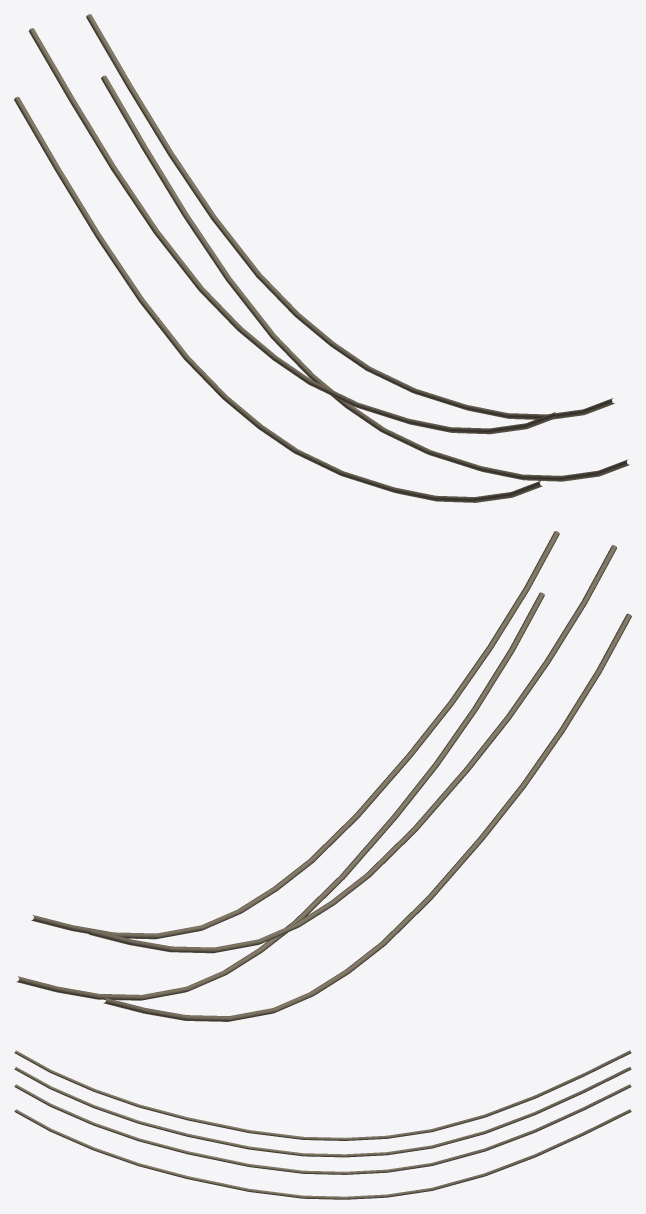
Rendered from SM_electric_cable_01.glb.
3 renders of one model, top to bottom at view 1: azimuth 30°, elevation 25°; view 2: azimuth 150°, elevation 25°; view 3: azimuth 270°, elevation 25°, orthographic. The views are drawn at different scales.
Visible parts, largest first — view 1: SM_electric_cable_01; view 2: SM_electric_cable_01; view 3: SM_electric_cable_01.
Boxes of the visible parts, x1,y1,x2,y2 form: SM_electric_cable_01: (14, 14, 629, 502); SM_electric_cable_01: (16, 531, 631, 1021); SM_electric_cable_01: (14, 1050, 631, 1199).
Bounding box in the file's own units: 1.77 × 4.06 × 17.65.
